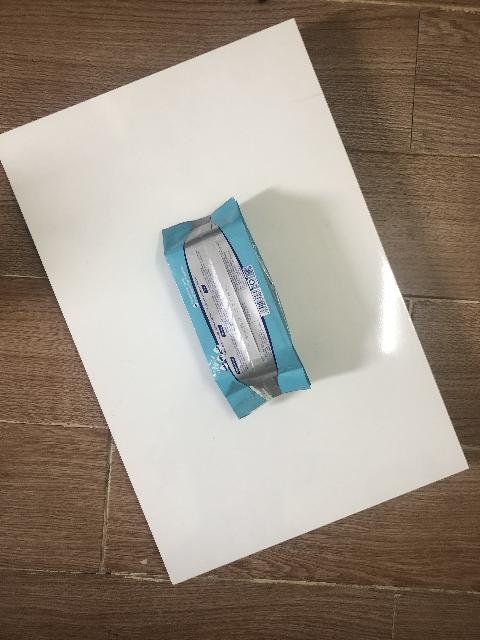Let-green_alcohol_wipes: (162, 201, 310, 417)
